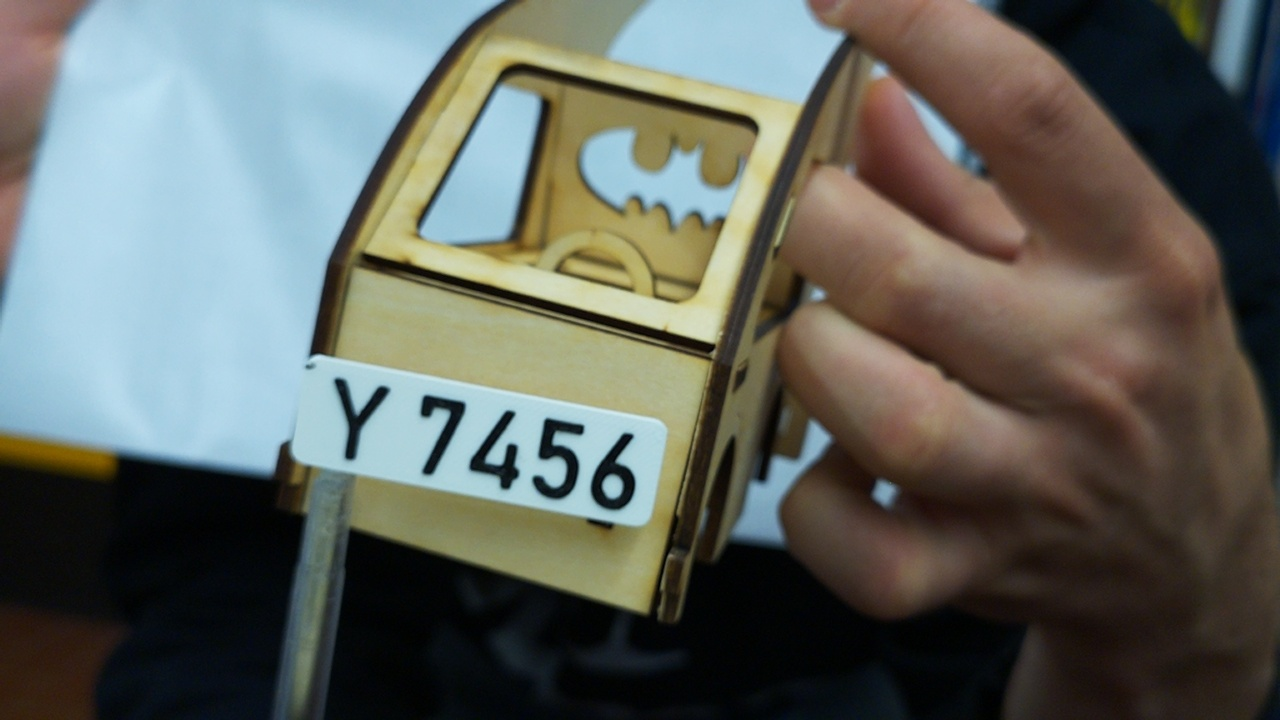license_plate: (288, 355, 670, 530)
